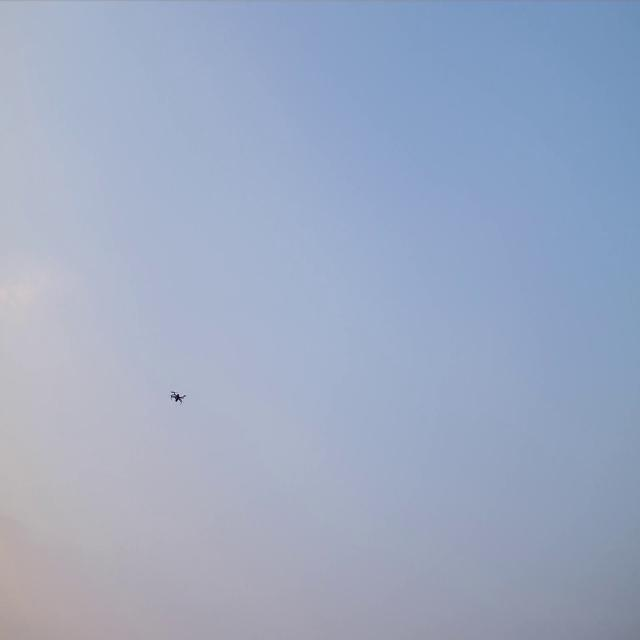UAV: (168, 390, 187, 406)
